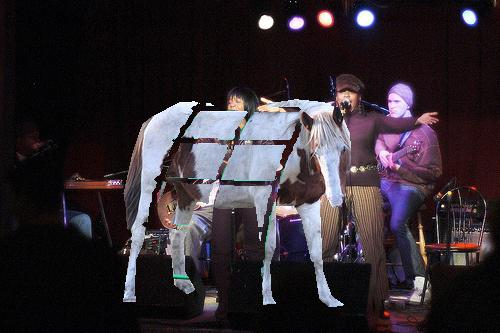tampered: (124, 100, 351, 307)
